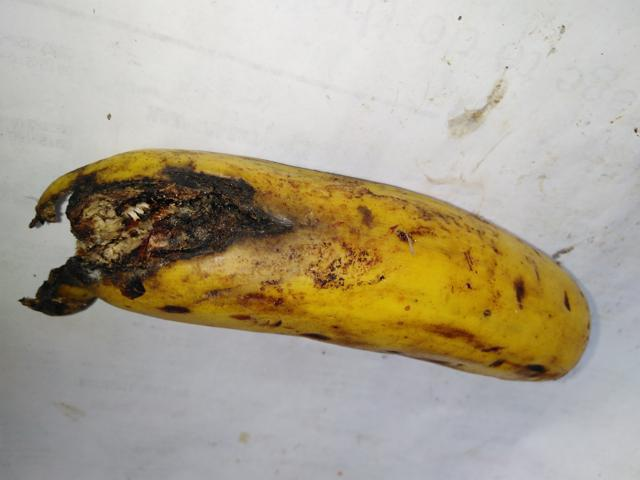rotten: (13, 108, 323, 319)
